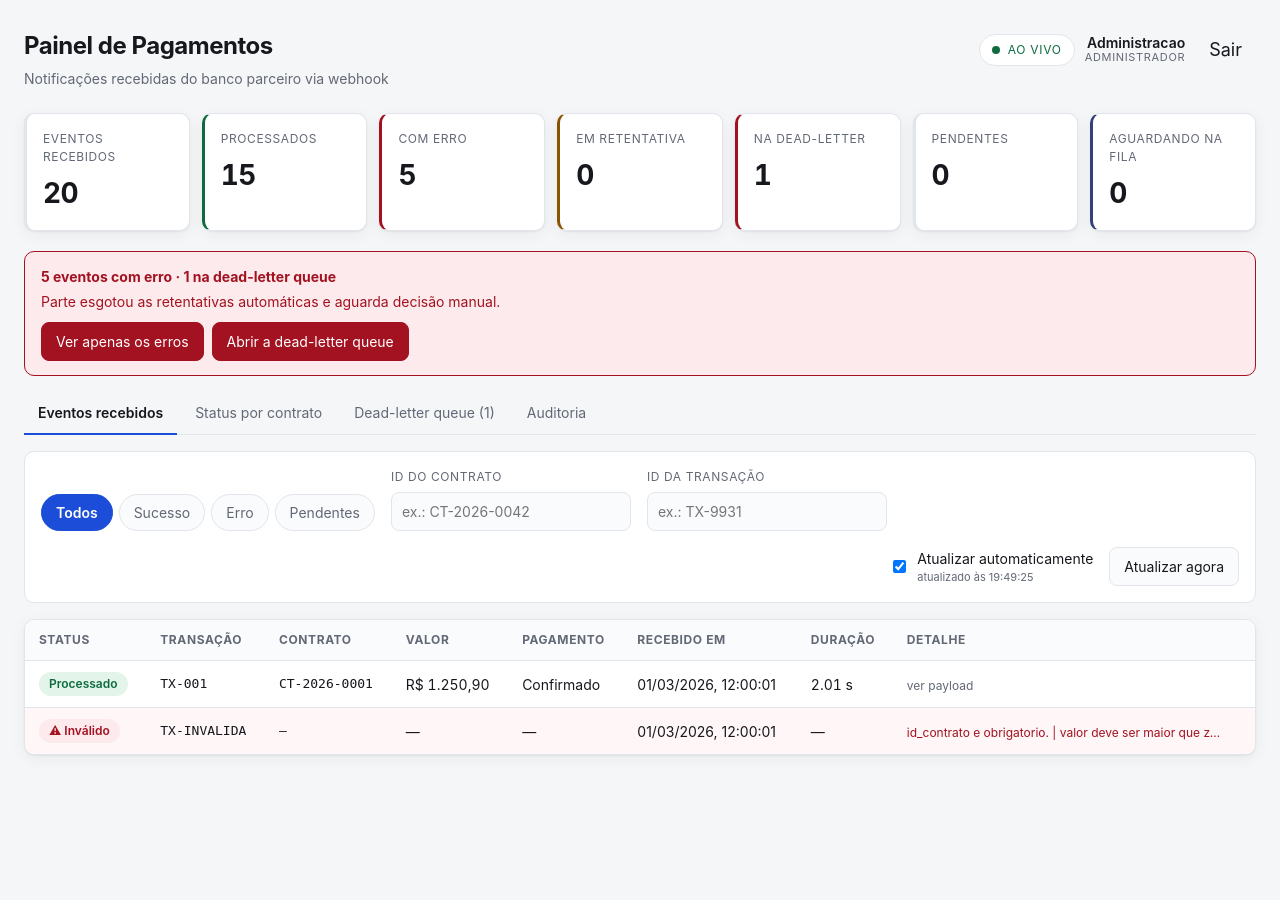
Test: App › mostra a auditoria para o administrador
The width and height of the screenshot is (1280, 900).
Check: the heading "Painel de Pagamentos" is shown, box [24,31,273,60]
Check: the text "TX-001" is shown, box [146,660,265,708]
Click the button "Auditoria". click: (556,414)
box: [513,392,600,435]
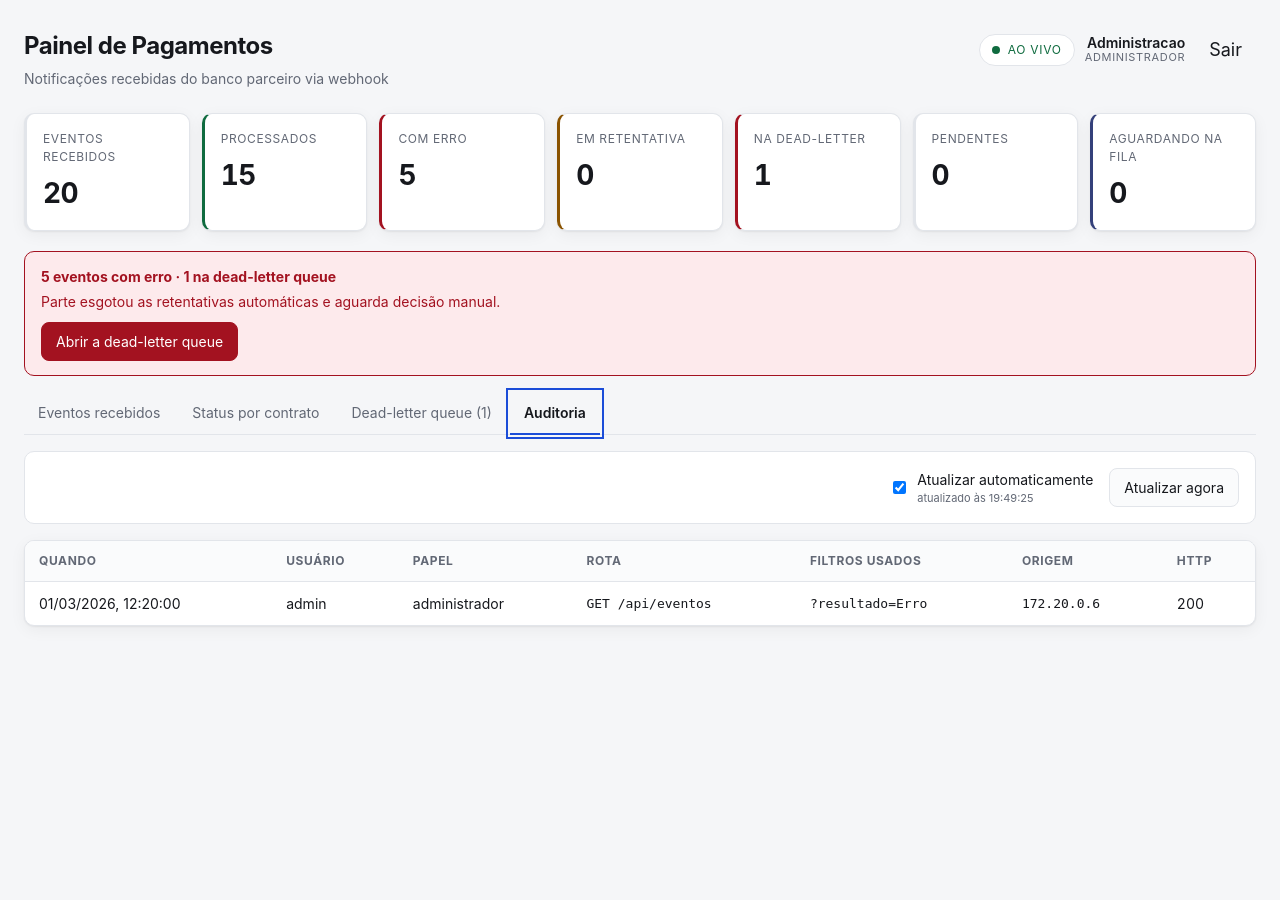
Check: the text "GET /api/eventos" is shown, box [572,582,796,625]
